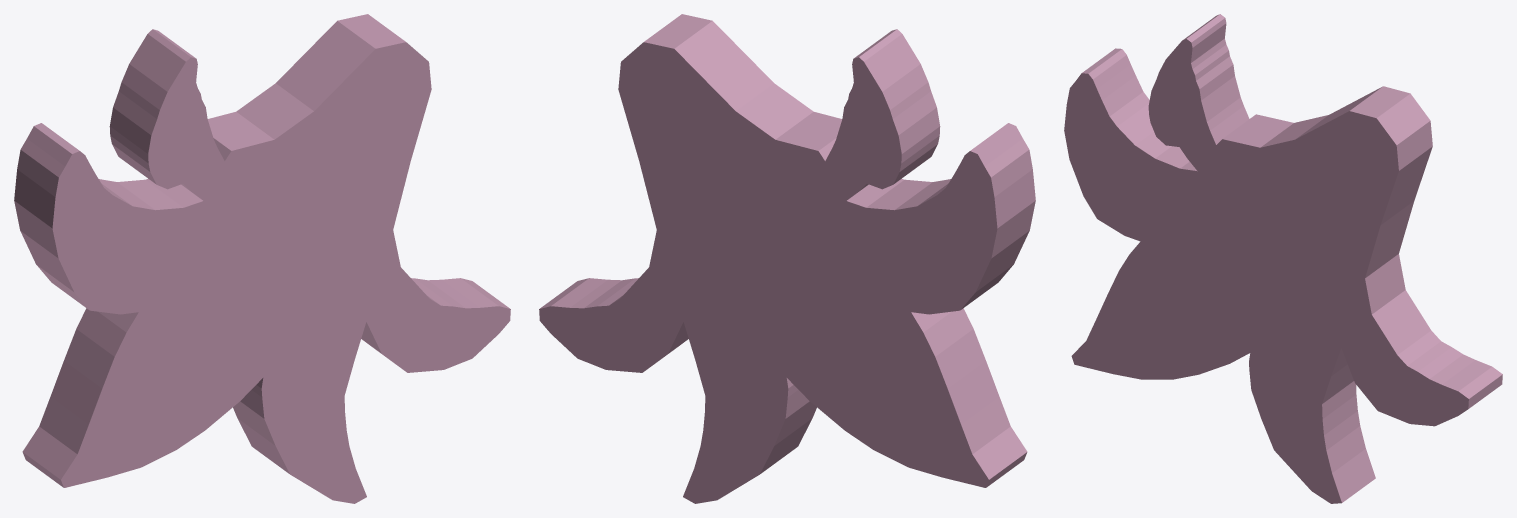
Rendered from Lily_3.fbx.
3 renders of one model, left to right at view 1: azimuth 30°, elevation 25°; view 2: azimuth 150°, elevation 25°; view 3: azimuth 330°, elevation 25°, orthographic. The views are drawn at different scales.
Visible parts, largest first — view 1: pPlane33; view 2: pPlane33; view 3: pPlane33.
Part boxes in pixels (<box>): pPlane33: <box>14,14,510,503</box>; pPlane33: <box>539,14,1035,503</box>; pPlane33: <box>1064,14,1502,503</box>.
Bounding box in the file's own units: 0.2097 × 0.2128 × 0.0304.
